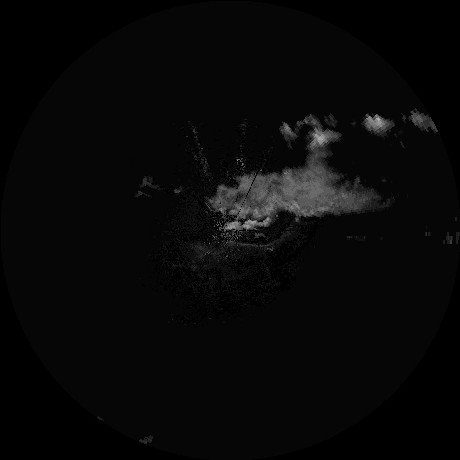frontgust: (221, 219, 296, 249)
